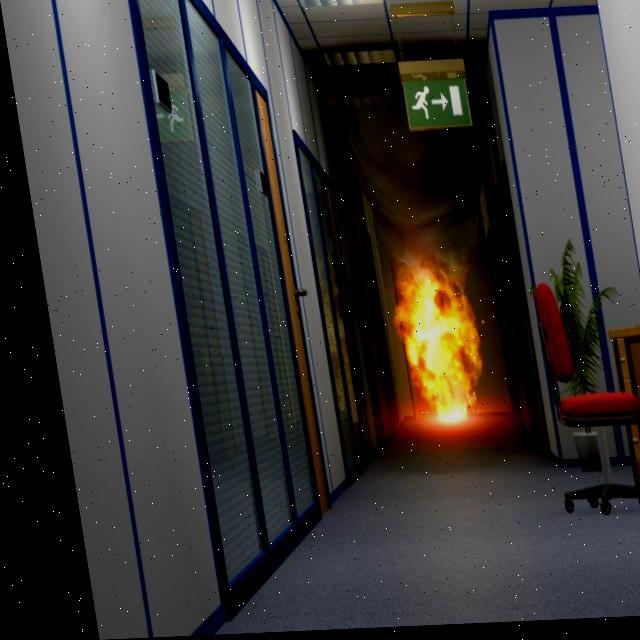Fire: (364, 235, 503, 431)
